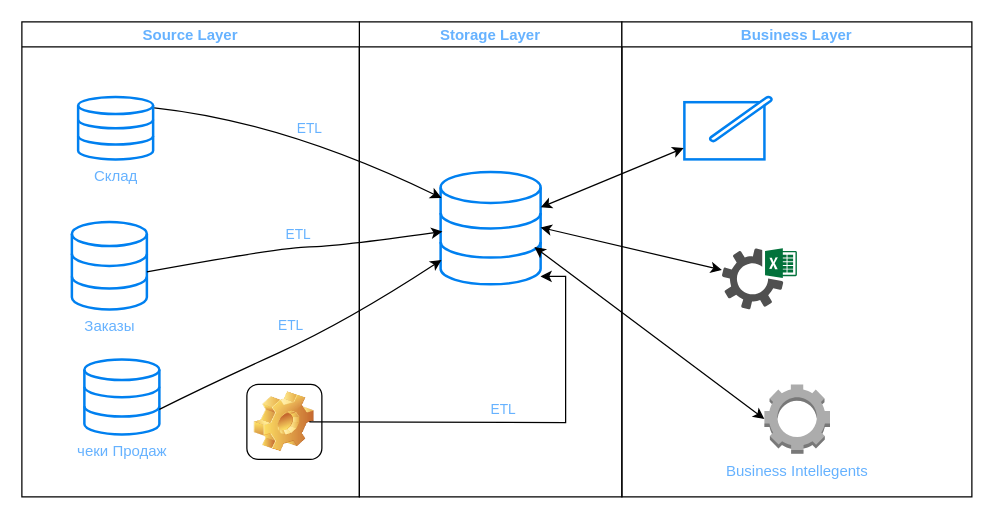
Image size: 994x519. Some labels were removed from this diagram. The centre of each missing label's shape, as x and y in pixels:
DWH: pixel 490 227
EXCEL: pixel 758 278
SQL Report: pixel 727 127
Внешние API: pixel 284 421
